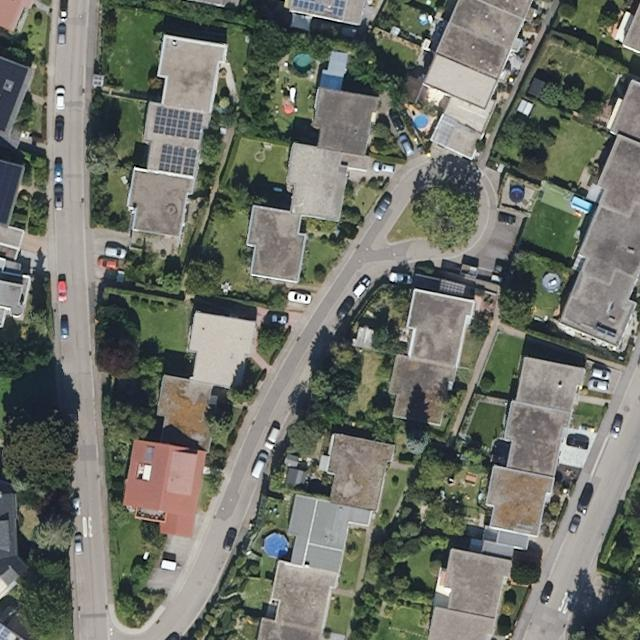PV: (151, 103, 206, 144), (156, 142, 201, 177), (288, 0, 348, 18)
